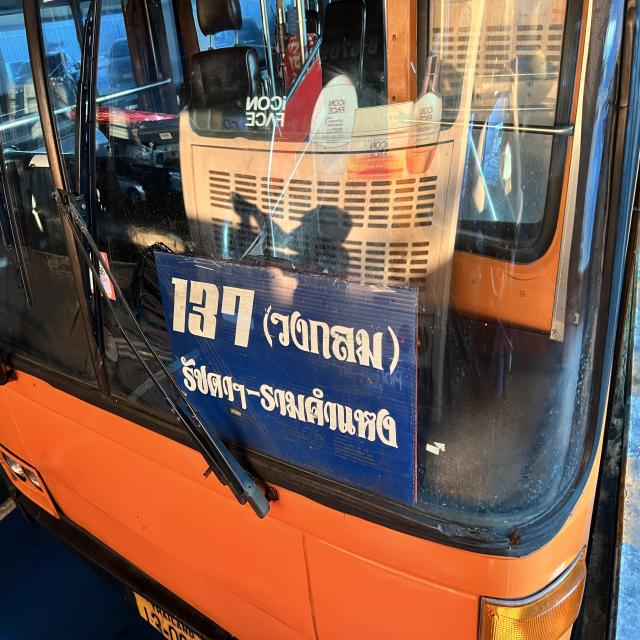BMTA-bus: (0, 0, 640, 640)
Destination-Sign-Normal: (155, 250, 417, 504)
